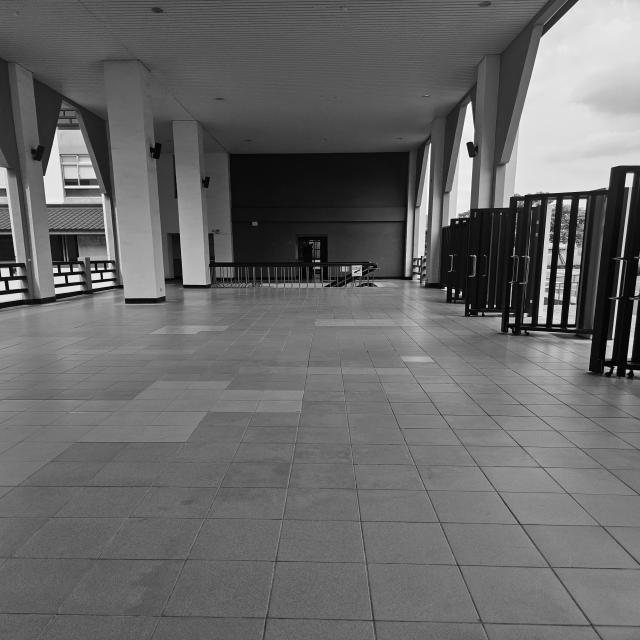Road-Object: (0, 280, 640, 640)
